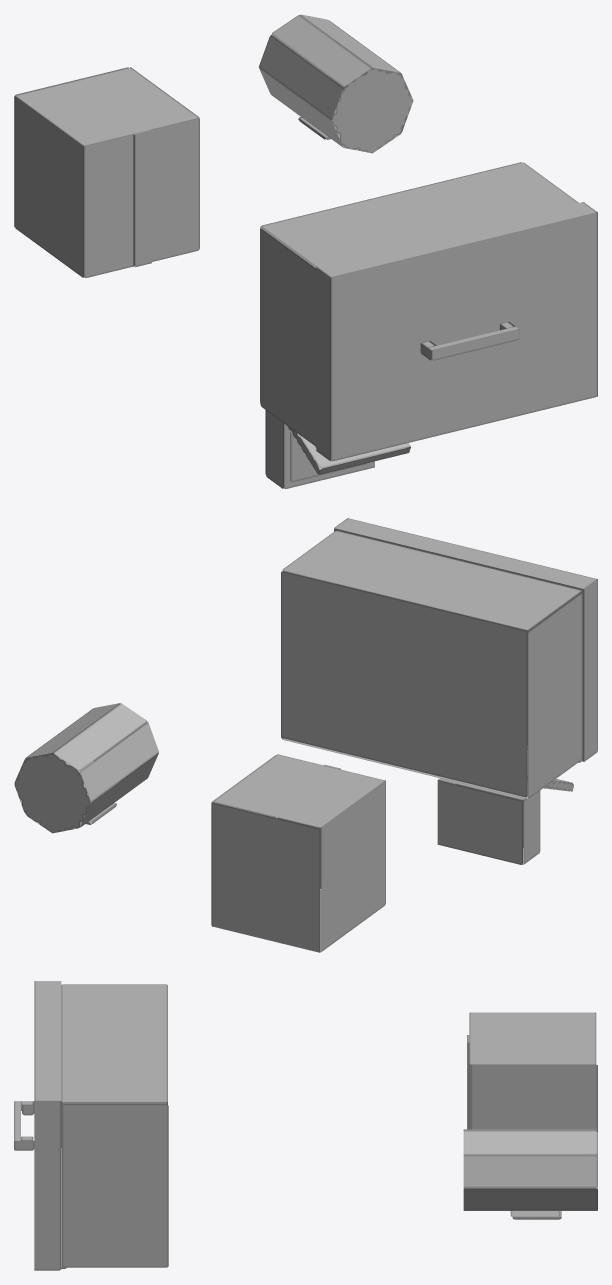
Rendered from contents_books_misc_02_29.obj.
3 views of the same model, one above another, from view 1: azimuth 30°, elevation 25°; view 2: azimuth 150°, elevation 25°; view 3: azimuth 270°, elevation 25° (orthographic). The views are drawn at different scales.
Visible parts, largest first — view 1: contents_books_misc_02_29; view 2: contents_books_misc_02_29; view 3: contents_books_misc_02_29.
Part boxes in pixels (x1,y1,x2,y2): contents_books_misc_02_29: (14, 14, 597, 488); contents_books_misc_02_29: (14, 518, 597, 952); contents_books_misc_02_29: (14, 981, 597, 1270).
Bounding box in the file's own units: 0.646 × 0.479 × 1.09.
Materials: 1 (1 with a texture image).
